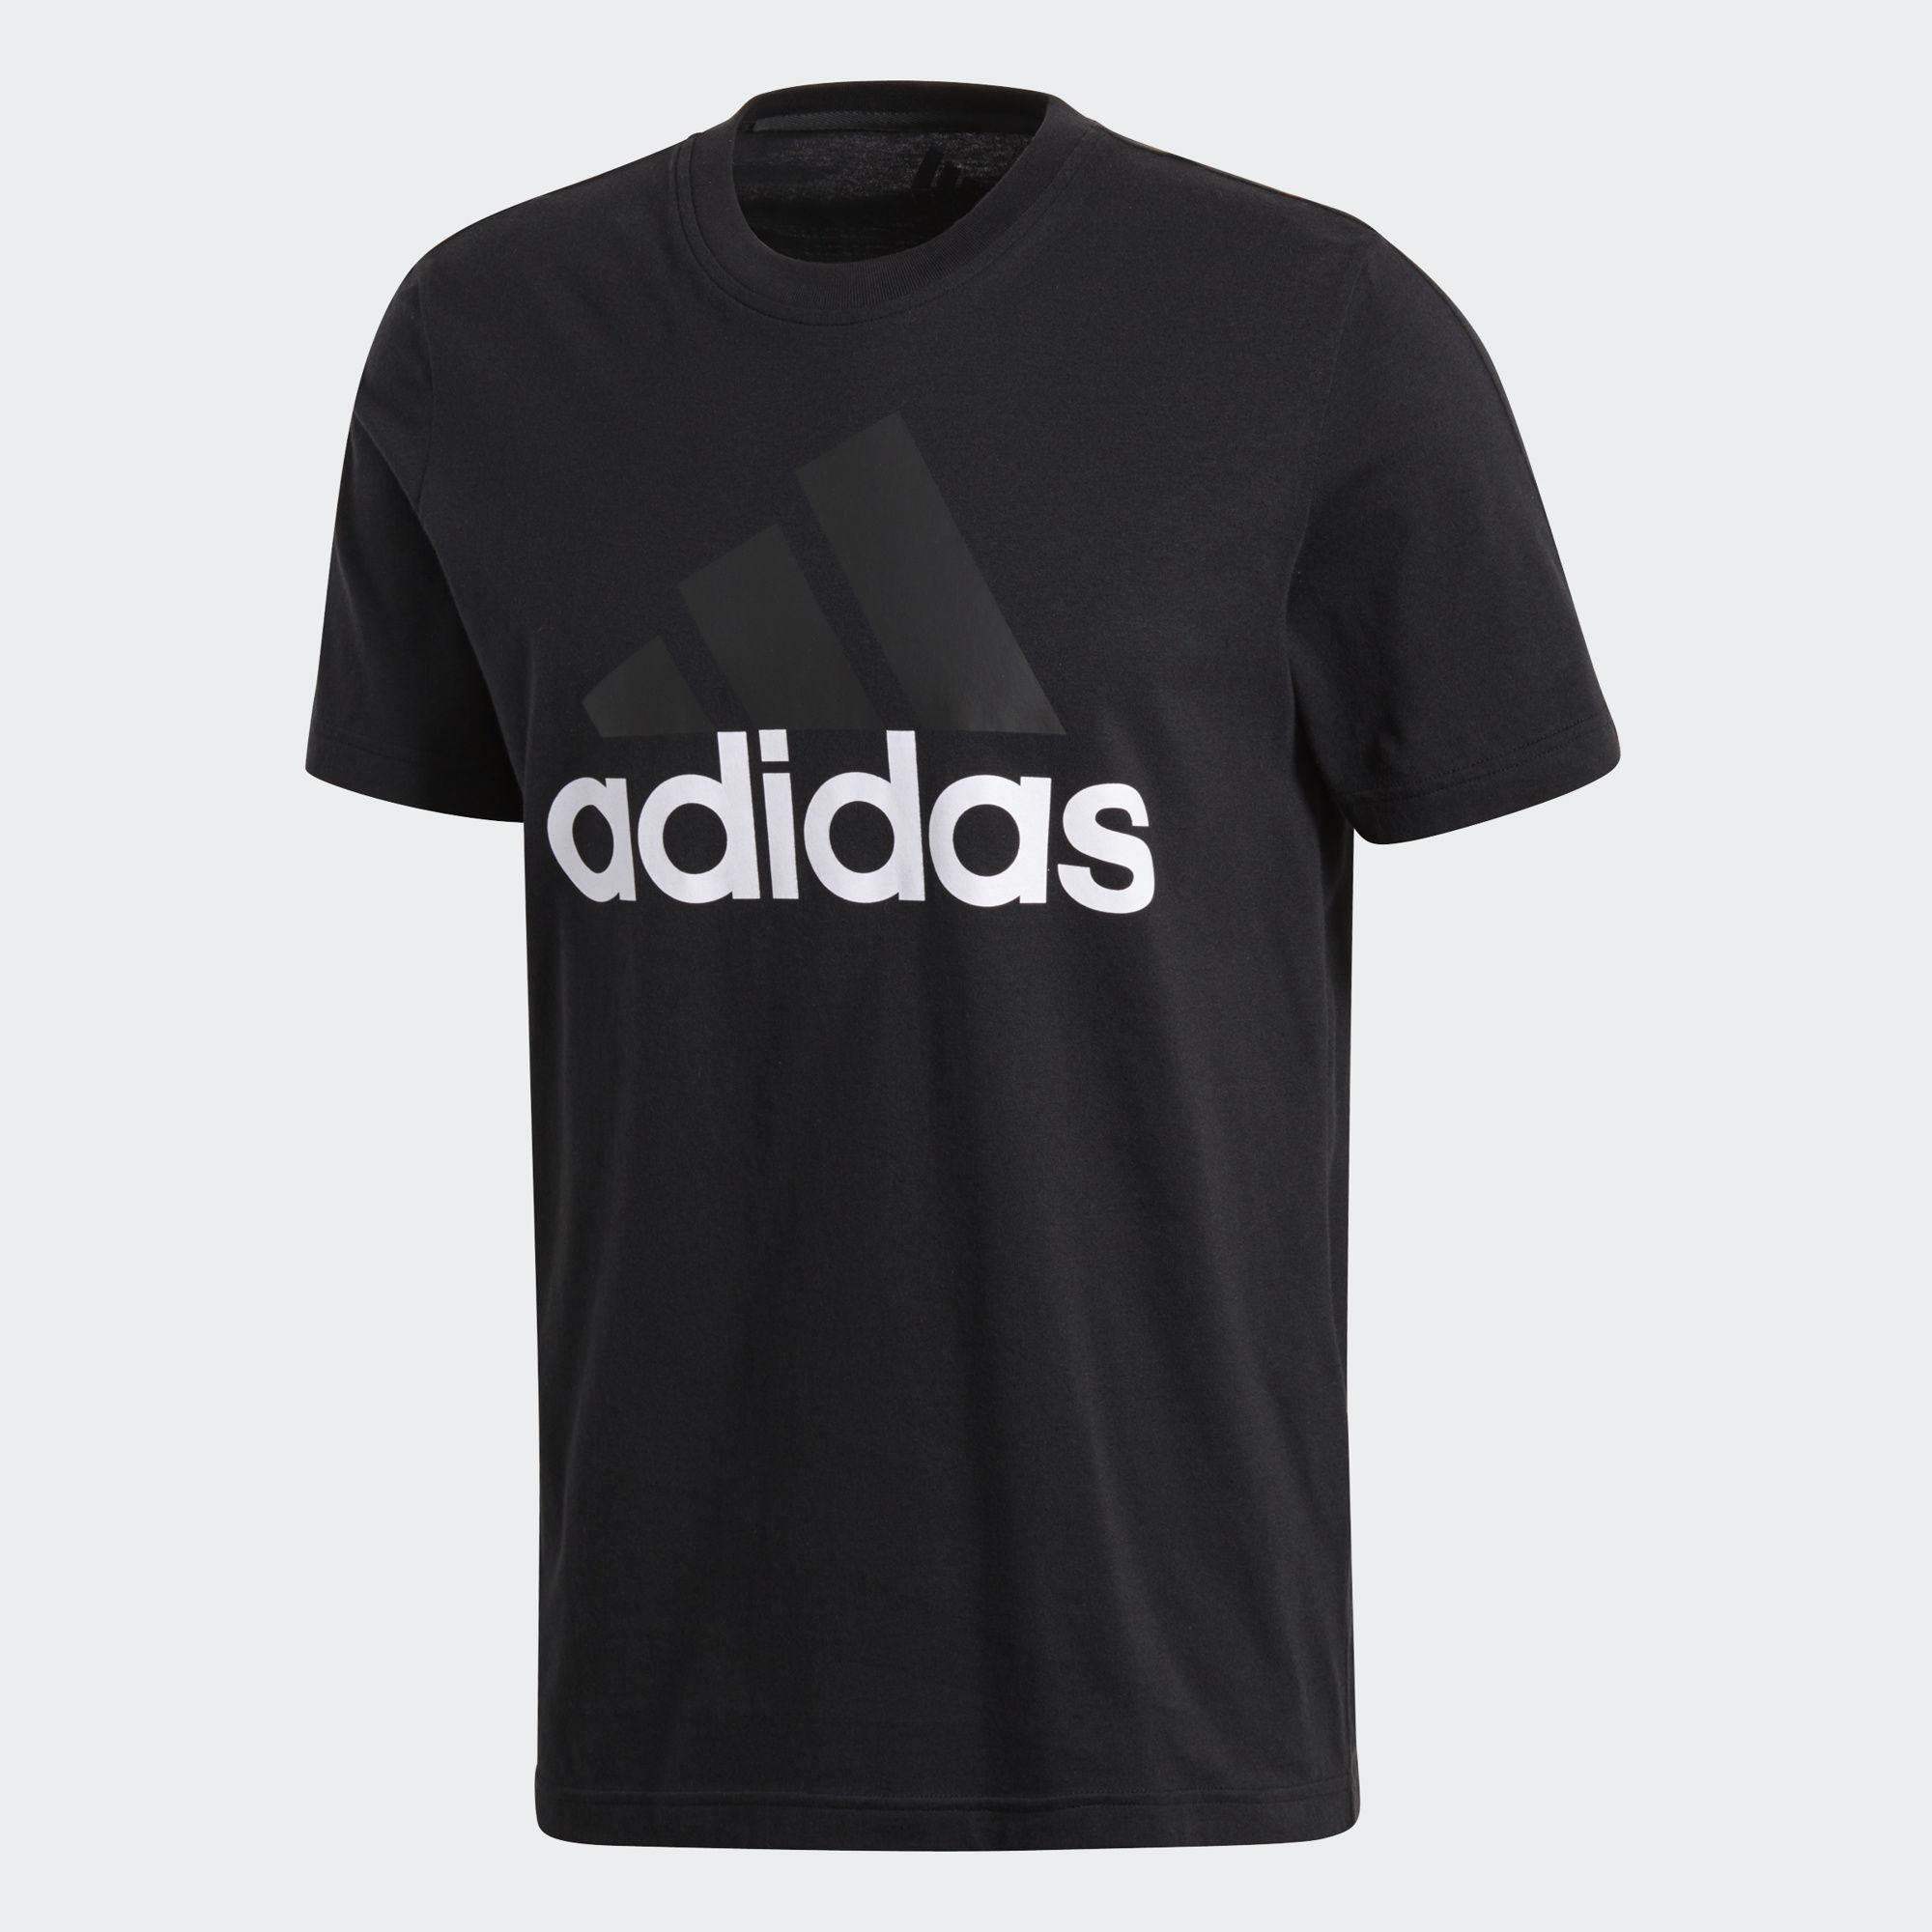teeshirt: (239, 67, 1661, 1891)
